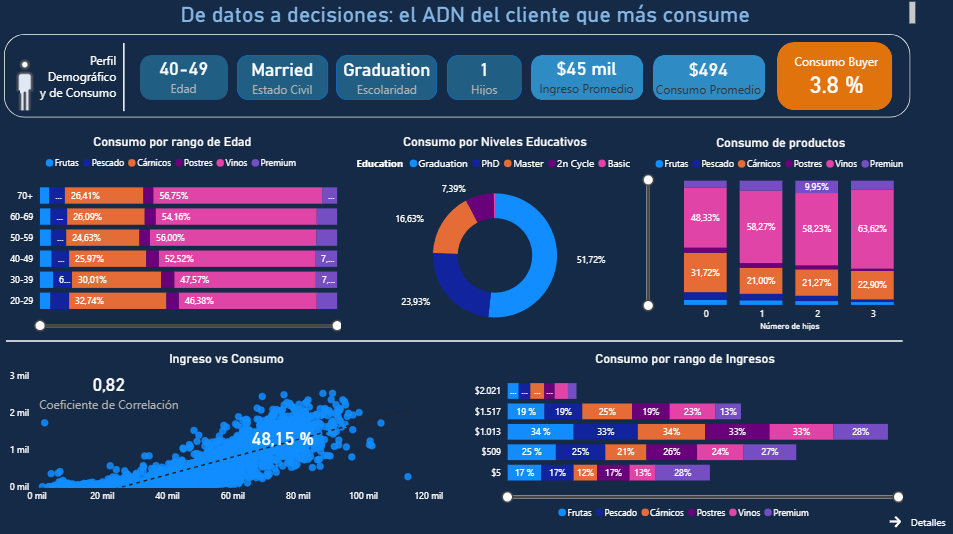

This screenshot's page, from the dashboard's own definition file:
{"tool":"powerbi","page":{"name":"Proyecto","canvas":[1280,720],"ordinal":0},"visuals":[{"type":"barChart","title":"Consumo  por rango de Ingresos","fields":{"Y":["Sum(Clientes.Frutas)","Sum(Clientes.Pescado)","Sum(Clientes.Cárnicos)","Sum(Clientes.Postres)","Sum(Clientes.Vinos)","Sum(Clientes.Premium)"],"Category":["Clientes.Monto Total (ubicaciones)"]},"box":[628.8,471.8,580.4,233.6],"z":6000},{"type":"donutChart","title":"Consumo por Niveles Educativos","fields":{"Category":["Clientes.Education"],"Y":["Medidas.Total Consumo"]},"box":[469.9,182.1,390,276.7],"z":7000},{"type":"shape","box":[8.7,48.7,1210.8,111.7],"z":8000},{"type":"shape","box":[191,75.5,117.6,60.2],"z":9000},{"type":"cardVisual","title":"Tarjeta Edad","fields":{"Data":["Medidas.Edad"]},"box":[185.1,65.2,127.8,80.8],"z":10000},{"type":"shape","box":[320.3,75.5,122,60.2],"z":11000},{"type":"hundredPercentStackedColumnChart","title":"Consumo de productos","fields":{"Category":["Clientes.Total Hijos"],"Y":["Sum(Clientes.Frutas)","Sum(Clientes.Pescado)","Sum(Clientes.Cárnicos)","Sum(Clientes.Postres)","Sum(Clientes.Vinos)","Sum(Clientes.MntGoldProds)"]},"box":[859.5,182.4,376.2,266],"z":12000},{"type":"cardVisual","title":"Tarjeta Estado Civil","fields":{"Data":["Medidas.Estado Civil"]},"box":[310,66.7,142.5,79.3],"z":13000},{"type":"hundredPercentStackedBarChart","title":"Consumo por rango de Edad","fields":{"Category":["Clientes.Rango_Edad"],"Y":["Sum(Clientes.Frutas)","Sum(Clientes.Pescado)","Sum(Clientes.Cárnicos)","Sum(Clientes.Postres)","Sum(Clientes.Vinos)","Sum(Clientes.Premium)"]},"box":[8.8,182.1,450,266.7],"z":14000},{"type":"shape","box":[452.6,75.5,135.2,60.2],"z":15000},{"type":"scatterChart","title":"Ingreso vs Consumo","fields":{"X":["Clientes.Income"],"Y":["Clientes.Monto Total"]},"box":[11.6,471.8,589.2,211.6],"z":16000},{"type":"shape","box":[1041.7,58.9,154.3,91.1],"z":17000},{"type":"cardVisual","title":"Tarjeta Escolaridad","fields":{"Data":["Medidas.Escolaridad"]},"box":[401.1,66.7,241,80.8],"z":18000},{"type":"cardVisual","title":"Tarjeta Buyer Consumo","fields":{"Data":["Medidas.Consumo Buyer"]},"box":[1047.6,61.9,148.4,83.8],"z":19000},{"type":"cardVisual","title":"Tarjeta Coef. Correlación","fields":{"Data":["Medidas.Coeficiente de Correlación"]},"box":[17.5,477.7,264.5,99.9],"z":20000},{"type":"shape","box":[601,75.5,99.9,60.2],"z":21000},{"type":"cardVisual","title":"Tarjeta Hijos","fields":{"Data":["Medidas.Hijos"]},"box":[603.9,66.7,94,80.8],"z":23000},{"type":"shape","box":[712.7,75.5,149.9,60.2],"z":25000},{"type":"shape","box":[875.7,75.5,149.9,60.2],"z":26000},{"type":"cardVisual","title":"Tarjeta Ingreso Promedio","fields":{"Data":["Medidas.Ingreso Promedio"]},"box":[692.1,63.7,191,83.8],"z":27000},{"type":"cardVisual","title":"Tarjeta Consumo Promedio","fields":{"Data":["Medidas.Gasto Promedio"]},"box":[847.8,67.5,204.2,77.9],"z":28000},{"type":"image","box":[2.9,77.9,69.1,76.4],"z":29000},{"type":"textbox","box":[33.9,68.5,130.8,74.9],"z":30000},{"type":"shape","box":[149.9,59.5,39.7,91.1],"z":31000},{"type":"shape","box":[11.6,443.9,1197.6,29.4],"z":33000},{"type":"cardVisual","title":"Tarjeta Top Consumidores","fields":{"Data":["Medidas.Ratio"]},"box":[304,546.8,154.3,83.8],"z":33500},{"type":"textbox","box":[26.4,0,1204.9,41.1],"z":33501},{"type":"actionButton","box":[1179.9,680.3,99.9,39.7],"z":33502}]}

Visuals, with their boxes in screenshot pixels (x1, y1, x2, y2), scaled from the page's 1280x720 canvas onto the 953x534 screenshot:
"Consumo  por rango de Ingresos" barChart: {"left": 468, "top": 350, "right": 900, "bottom": 523}
"Consumo por Niveles Educativos" donutChart: {"left": 350, "top": 135, "right": 640, "bottom": 340}
shape: {"left": 6, "top": 36, "right": 908, "bottom": 119}
shape: {"left": 142, "top": 56, "right": 230, "bottom": 101}
"Tarjeta Edad" cardVisual: {"left": 138, "top": 48, "right": 233, "bottom": 108}
shape: {"left": 238, "top": 56, "right": 329, "bottom": 101}
"Consumo de productos" hundredPercentStackedColumnChart: {"left": 640, "top": 135, "right": 920, "bottom": 333}
"Tarjeta Estado Civil" cardVisual: {"left": 231, "top": 49, "right": 337, "bottom": 108}
"Consumo por rango de Edad" hundredPercentStackedBarChart: {"left": 7, "top": 135, "right": 342, "bottom": 333}
shape: {"left": 337, "top": 56, "right": 438, "bottom": 101}
"Ingreso vs Consumo" scatterChart: {"left": 9, "top": 350, "right": 447, "bottom": 507}
shape: {"left": 776, "top": 44, "right": 890, "bottom": 111}
"Tarjeta Escolaridad" cardVisual: {"left": 299, "top": 49, "right": 478, "bottom": 109}
"Tarjeta Buyer Consumo" cardVisual: {"left": 780, "top": 46, "right": 890, "bottom": 108}
"Tarjeta Coef. Correlación" cardVisual: {"left": 13, "top": 354, "right": 210, "bottom": 428}
shape: {"left": 447, "top": 56, "right": 522, "bottom": 101}
"Tarjeta Hijos" cardVisual: {"left": 450, "top": 49, "right": 520, "bottom": 109}
shape: {"left": 531, "top": 56, "right": 642, "bottom": 101}
shape: {"left": 652, "top": 56, "right": 764, "bottom": 101}
"Tarjeta Ingreso Promedio" cardVisual: {"left": 515, "top": 47, "right": 657, "bottom": 109}
"Tarjeta Consumo Promedio" cardVisual: {"left": 631, "top": 50, "right": 783, "bottom": 108}
image: {"left": 2, "top": 58, "right": 54, "bottom": 114}
textbox: {"left": 25, "top": 51, "right": 123, "bottom": 106}
shape: {"left": 112, "top": 44, "right": 141, "bottom": 112}
shape: {"left": 9, "top": 329, "right": 900, "bottom": 351}
"Tarjeta Top Consumidores" cardVisual: {"left": 226, "top": 406, "right": 341, "bottom": 468}
textbox: {"left": 20, "top": 0, "right": 917, "bottom": 30}
actionButton: {"left": 878, "top": 505, "right": 952, "bottom": 533}
